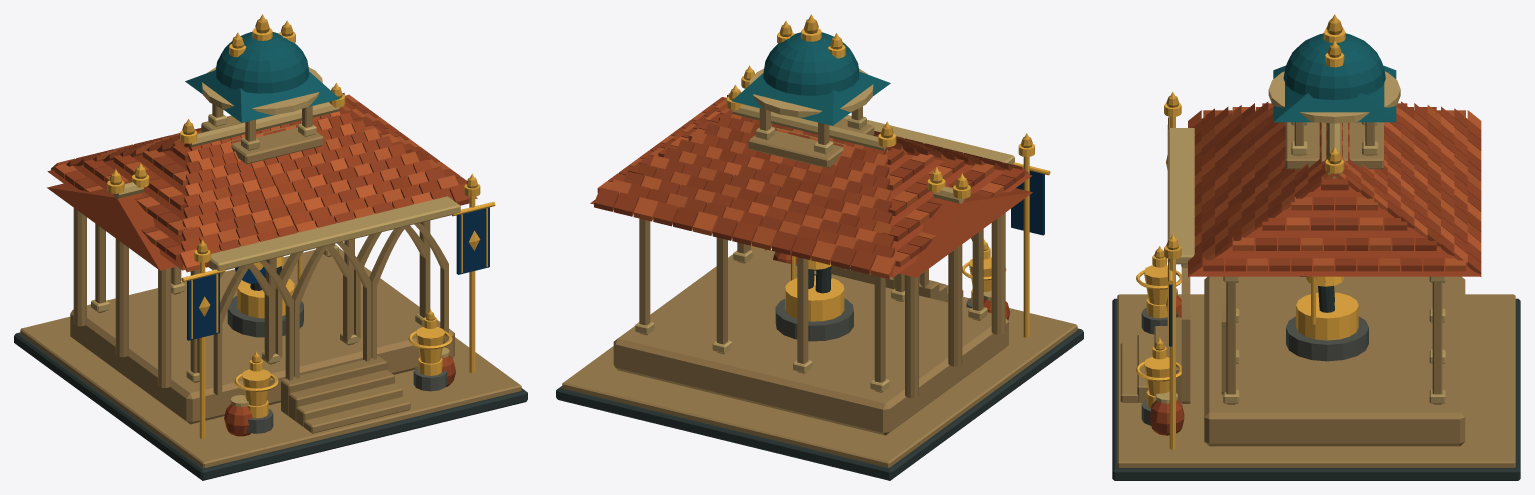
3 renders of one model, left to right at view 1: azimuth 30°, elevation 25°; view 2: azimuth 150°, elevation 25°; view 3: azimuth 270°, elevation 25°, orthographic. The views are drawn at different scales.
Parts seen in each view (by area): view 1: hero_hall_level4_structure, hero_hall_level4_metal; view 2: hero_hall_level4_structure, hero_hall_level4_metal; view 3: hero_hall_level4_structure, hero_hall_level4_metal.
Boxes of the visible parts, x1,y1,x2,y2 form: hero_hall_level4_structure: (14, 19, 527, 480); hero_hall_level4_metal: (107, 14, 495, 438); hero_hall_level4_structure: (556, 19, 1083, 480); hero_hall_level4_metal: (726, 14, 1050, 337); hero_hall_level4_structure: (1112, 19, 1520, 480); hero_hall_level4_metal: (1136, 14, 1358, 449).
Size of the model in its own units: 5.6 by 5.78 by 5.6.
